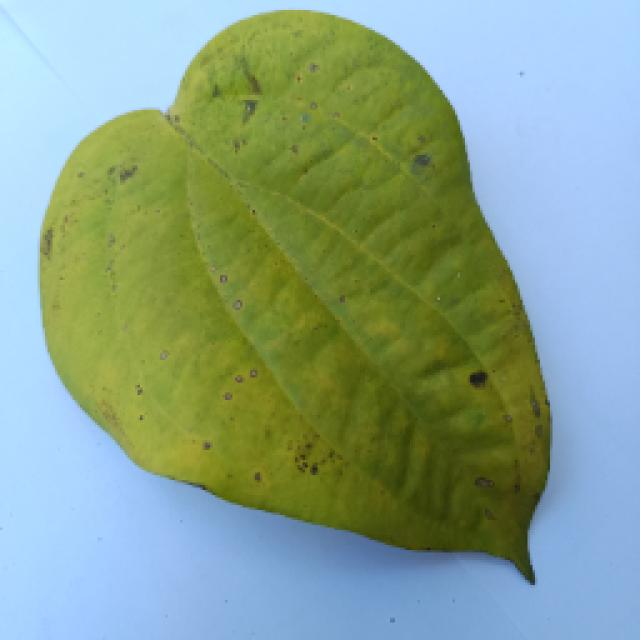slow-decline: (20, 25, 560, 593)
